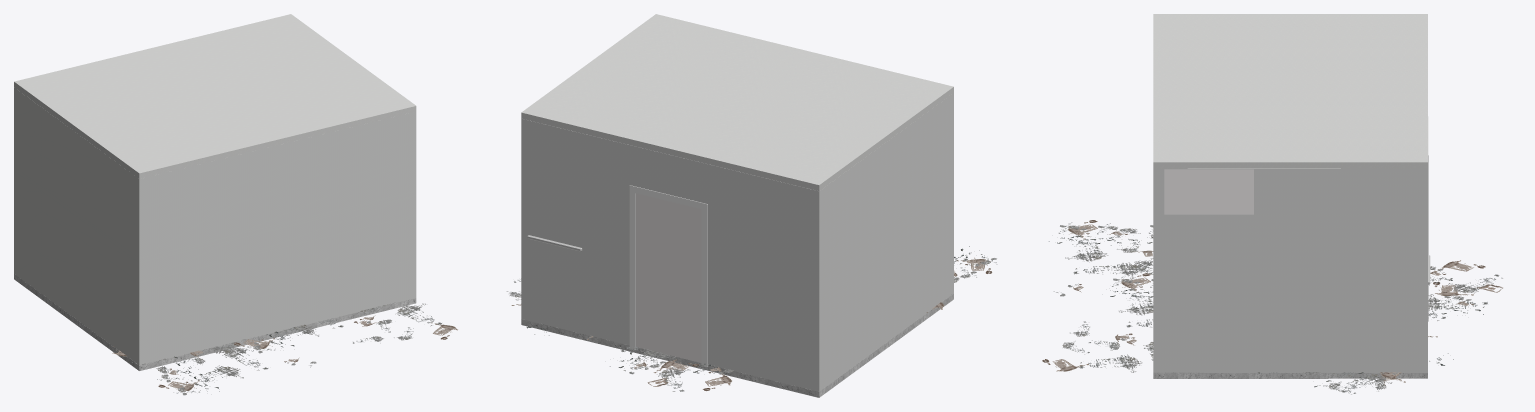
Rendered from FloorPlan405_physics.fbx.
3 renders of one model, left to right at view 1: azimuth 30°, elevation 25°; view 2: azimuth 150°, elevation 25°; view 3: azimuth 270°, elevation 25°, orthographic. The views are drawn at different scales.
Visible parts, largest first — view 1: FP405:Walls, FP405:Ceiling, FP405:Decals.009, FP405:Floor; view 2: FP405:Walls, FP405:Ceiling, FP405:polySurface386, FP405:polySurface161, FP405:Floor, FP405:Decals.009; view 3: FP405:Walls, FP405:Ceiling, FP405:Decals.009, FP405:Cube.1413, FP405:Floor.
Boxes of the visible parts, x1,y1,x2,y2 form: FP405:Walls: (14, 87, 416, 365); FP405:Ceiling: (14, 14, 416, 178); FP405:Decals.009: (112, 302, 457, 395); FP405:Floor: (14, 274, 416, 370); FP405:Walls: (521, 93, 953, 391); FP405:Ceiling: (521, 14, 953, 190); FP405:polySurface386: (636, 193, 701, 362); FP405:polySurface161: (629, 185, 707, 367); FP405:Floor: (521, 293, 953, 397); FP405:Decals.009: (506, 246, 997, 391); FP405:Walls: (1153, 168, 1427, 372); FP405:Ceiling: (1153, 14, 1427, 168); FP405:Decals.009: (1042, 220, 1502, 394); FP405:Cube.1413: (1164, 169, 1253, 214); FP405:Floor: (1153, 372, 1427, 378).
Size of the model in its own units: 446 by 245 by 501.
